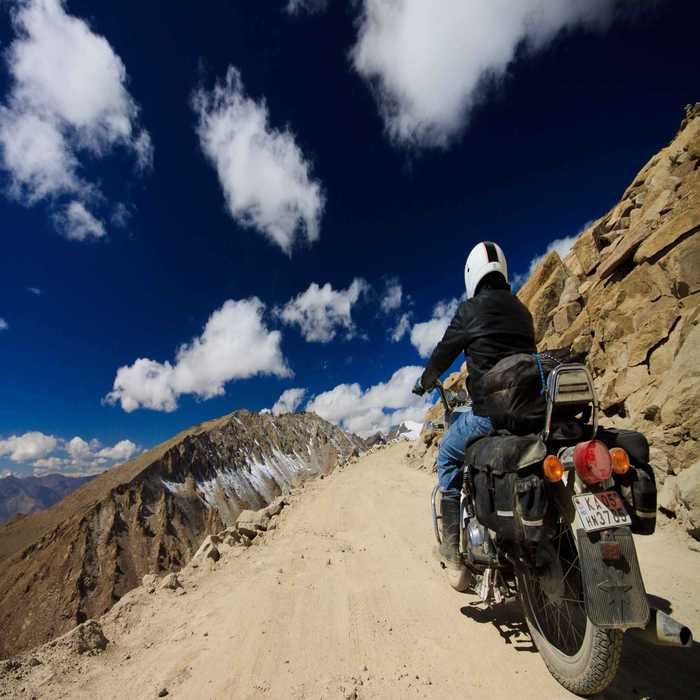h: (461, 237, 512, 297)
n: (569, 488, 634, 532)
